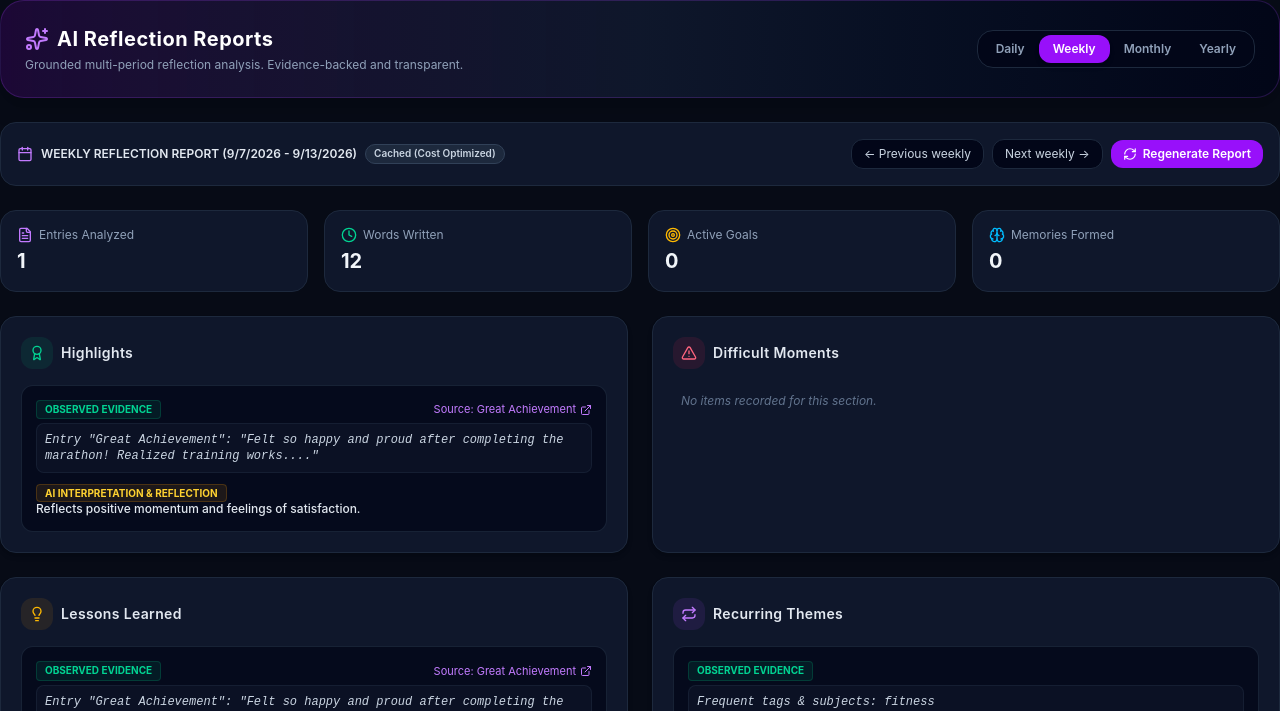
Test: ReflectionReportsView component › allows switching report period kinds (Daily, Weekly, Monthly, Yearly)
Step 1. Click the button "monthly" → (1147, 49), box [1110,35,1185,63]
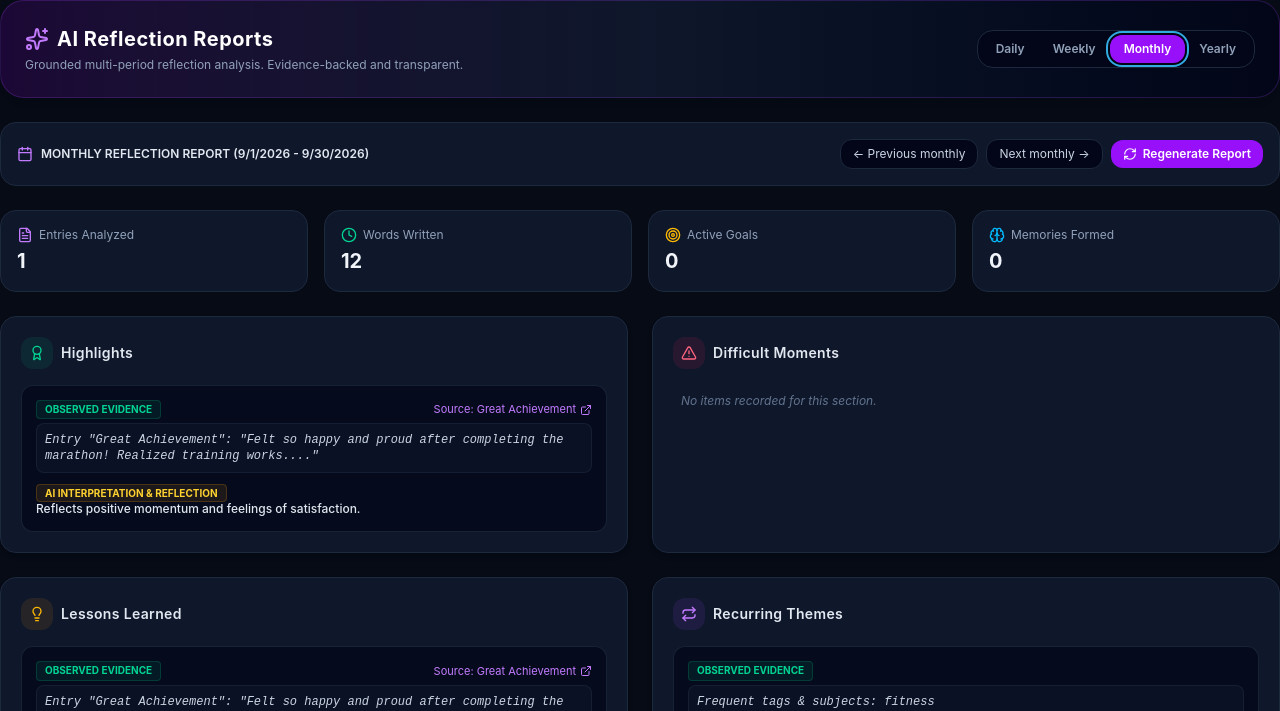
Check: the text "MONTHLY REFLECTION REPORT (9/1/2026 - 9/30/2026)" is shown, box [41,146,369,162]
